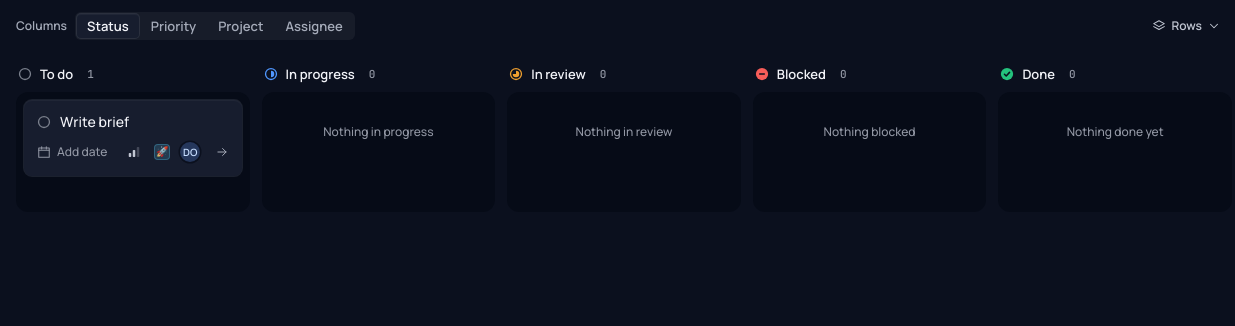
it: BoardView › renders the status menu in a portal and applies the choice
The width and height of the screenshot is (1235, 326).
Step 1. Click the button named "Change status of Write brief" → [44, 122], box [34,112,54,132]
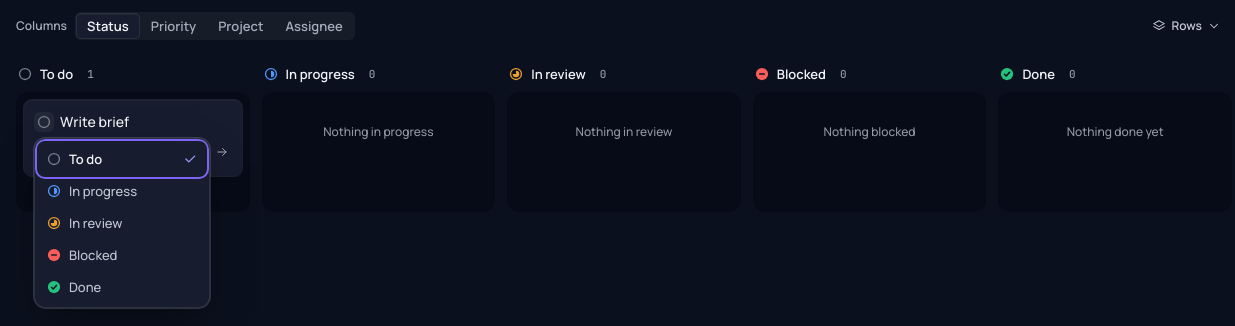
Step 2. Click the menu item "In progress" → [122, 191], box [39,175,205,207]
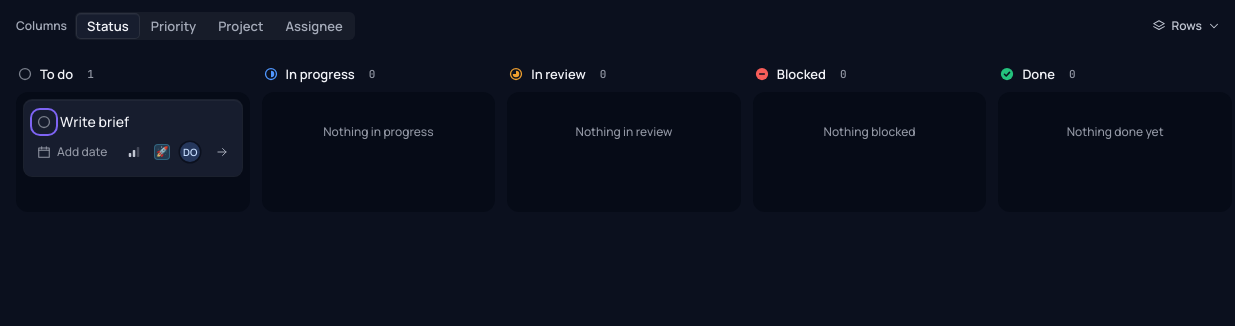
Expected: the menu is gone
